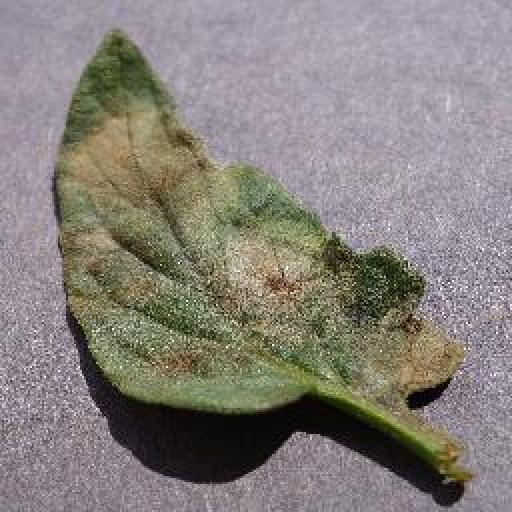Late Blight: (51, 20, 472, 417)
